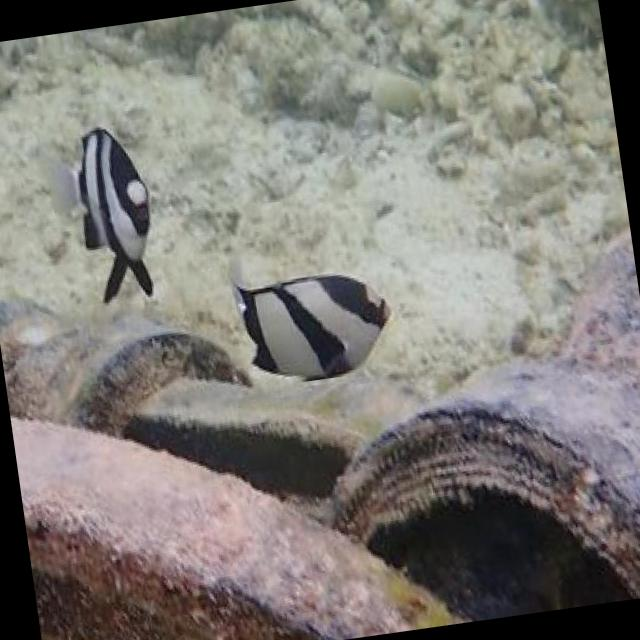Three_striped DasmselFish: (224, 246, 402, 400), (42, 119, 164, 308)
